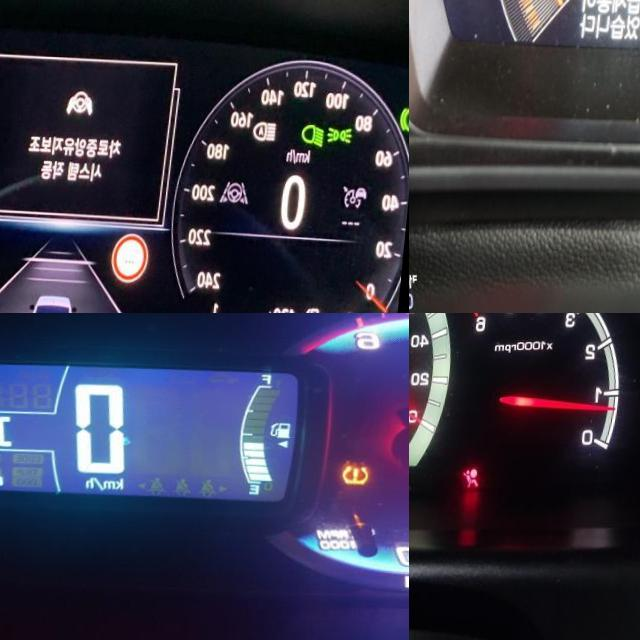Low beam: (307, 122, 332, 148)
SideLamp: (334, 124, 361, 142)
